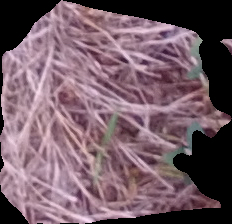soil: (3, 3, 231, 224)
